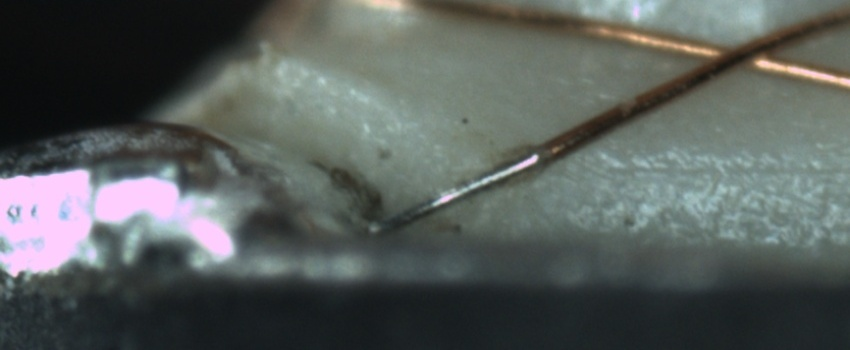CL: (682, 27, 797, 76)
DL: (600, 137, 850, 202)
TS: (372, 147, 547, 235)
TTCW: (380, 119, 604, 230)
